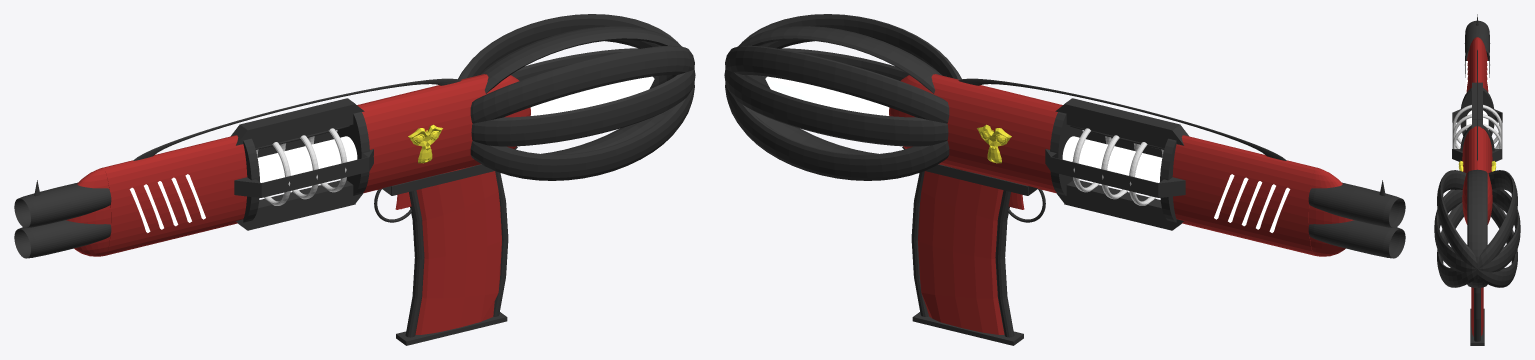
The model's file is gun_red.glb.
3 renders of one model, left to right at view 1: azimuth 30°, elevation 25°; view 2: azimuth 150°, elevation 25°; view 3: azimuth 270°, elevation 25°, orthographic. The views are drawn at different scales.
Visible parts, largest first — view 1: Torus.008, Cylinder, Torus.012, Cylinder.004, Torus.013, Torus.011, Torus.014, Cube.004, Torus.001, Torus.006, Cube.005, Cylinder.001 (+11 smaller); view 2: Torus.008, Cylinder, Torus.011, Cylinder.004, Torus.013, Torus.012, Torus.014, Cube.004, Torus.001, Torus.006, Cube.005, Cylinder.001 (+11 smaller); view 3: Torus.011, Torus.012, Torus.013, Torus.014, Cylinder.004, Cylinder, Torus.001, Cylinder.002, Sphere.004, Cube.004, Torus.010, Torus.008 (+11 smaller).
Boxes of the visible parts, bbox=[...] form: Torus.008: bbox=[415, 165, 501, 334]; Cylinder: bbox=[102, 135, 247, 255]; Torus.012: bbox=[458, 14, 694, 180]; Cylinder.004: bbox=[357, 74, 495, 192]; Torus.013: bbox=[471, 48, 695, 146]; Torus.011: bbox=[470, 45, 694, 123]; Torus.014: bbox=[478, 26, 682, 154]; Cube.004: bbox=[240, 98, 355, 148]; Torus.001: bbox=[14, 182, 111, 227]; Torus.006: bbox=[14, 220, 111, 258]; Cube.005: bbox=[247, 180, 355, 230]; Cylinder.001: bbox=[257, 136, 357, 182]; Torus.008: bbox=[918, 165, 1004, 334]; Cylinder: bbox=[1172, 135, 1317, 255]; Torus.011: bbox=[725, 14, 961, 180]; Cylinder.004: bbox=[924, 74, 1062, 192]; Torus.013: bbox=[724, 48, 948, 146]; Torus.012: bbox=[725, 45, 949, 123]; Torus.014: bbox=[737, 26, 941, 154]; Cube.004: bbox=[1064, 98, 1179, 148]; Torus.001: bbox=[1308, 182, 1405, 227]; Torus.006: bbox=[1308, 220, 1405, 258]; Cube.005: bbox=[1064, 180, 1172, 230]; Cylinder.001: bbox=[1062, 136, 1162, 182]; Torus.011: bbox=[1437, 170, 1517, 287]; Torus.012: bbox=[1437, 170, 1517, 287]; Torus.013: bbox=[1434, 189, 1520, 272]; Torus.014: bbox=[1467, 169, 1487, 287]; Cylinder.004: bbox=[1462, 126, 1492, 197]; Cylinder: bbox=[1466, 40, 1488, 92]; Torus.001: bbox=[1464, 20, 1490, 60]; Cylinder.002: bbox=[1460, 88, 1494, 135]; Sphere.004: bbox=[1462, 179, 1492, 224]; Cube.004: bbox=[1472, 82, 1482, 119]; Torus.010: bbox=[1474, 288, 1480, 341]; Torus.008: bbox=[1471, 287, 1483, 336].
Bounding box in the file's own units: 0.2404 × 0.0911 × 0.0388.
